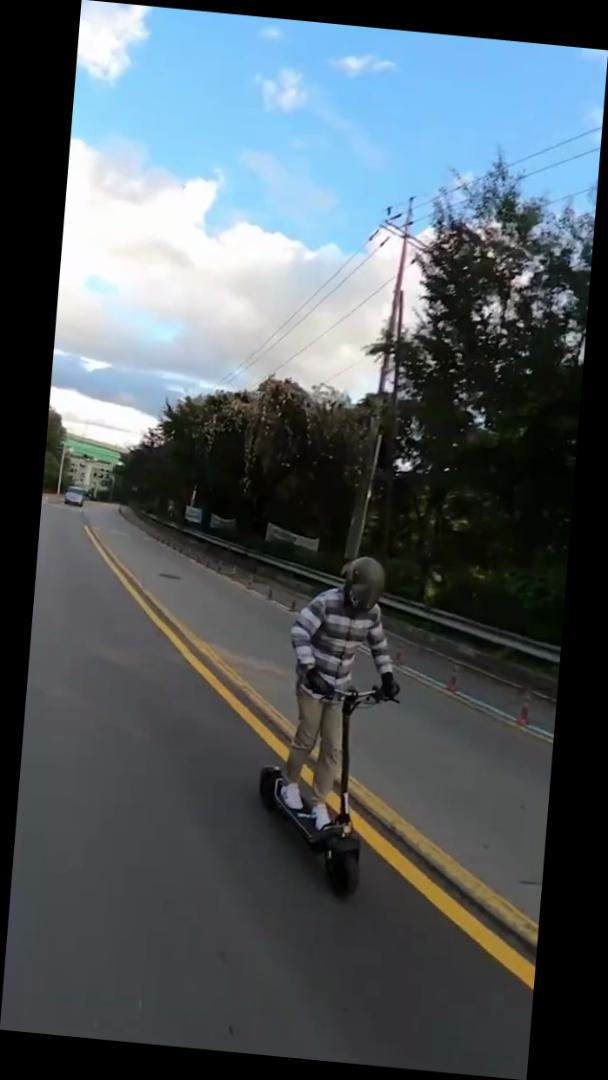helmet: (247, 543, 413, 908)
